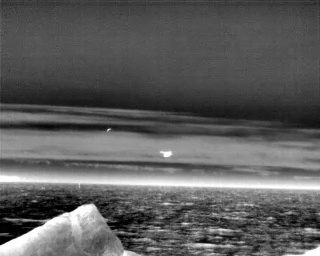HELICOPTER: (157, 147, 176, 161)
